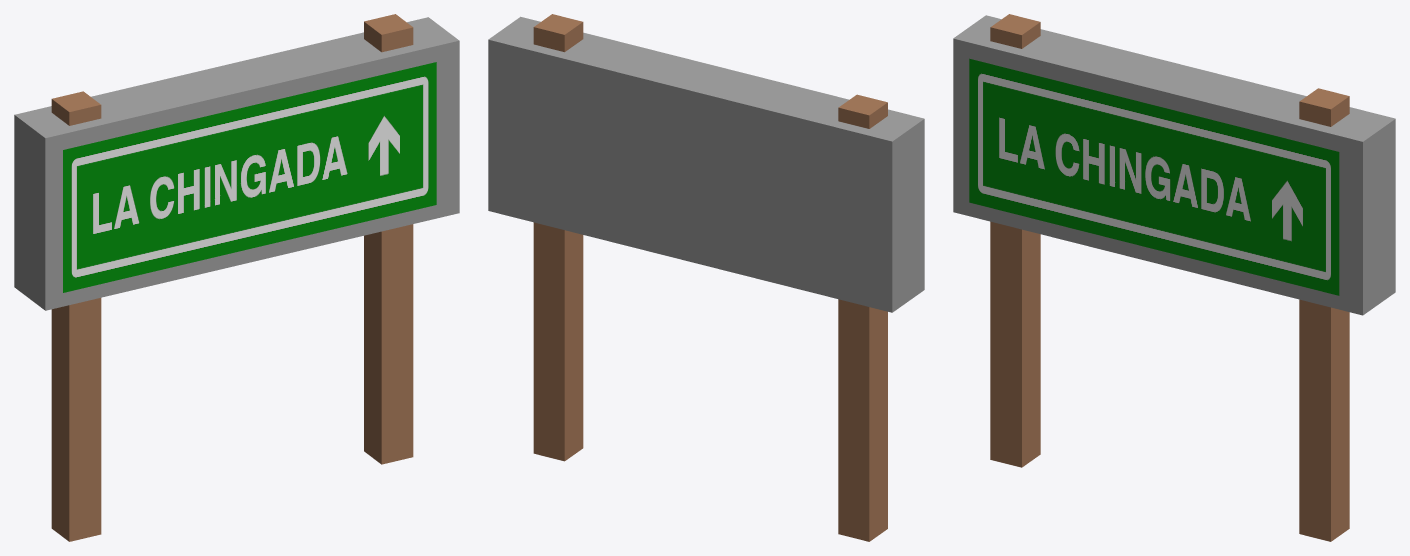
File: letrero3.gltf
3 views of the same model, side by side, from view 1: azimuth 30°, elevation 25°; view 2: azimuth 150°, elevation 25°; view 3: azimuth 330°, elevation 25° (orthographic).
Visible parts, largest first — view 1: Plane.025, Cube.020, Cube.019, Cube.018; view 2: Cube.020, Cube.018, Cube.019; view 3: Plane.025, Cube.020, Cube.018, Cube.019.
Boxes of the visible parts, x1,y1,x2,y2 form: Plane.025: (63, 62, 436, 292); Cube.020: (14, 17, 459, 310); Cube.019: (51, 91, 101, 541); Cube.018: (364, 14, 413, 464); Cube.020: (488, 16, 924, 312); Cube.018: (533, 14, 583, 461); Cube.019: (838, 94, 887, 541); Plane.025: (969, 58, 1339, 295); Cube.020: (953, 15, 1395, 315); Cube.018: (1299, 88, 1349, 541); Cube.019: (990, 14, 1040, 467).
Size of the model in its own units: 2.72 by 2.74 by 0.4077.
3 materials, 1 textured.
